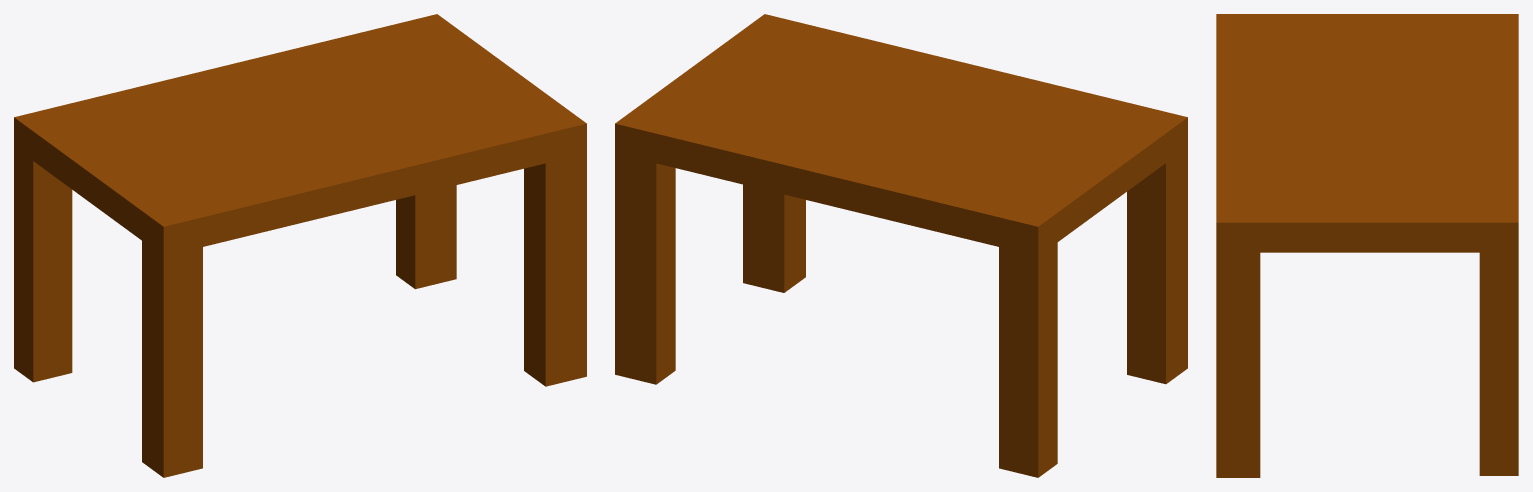
Rendered from table.fbx.
3 renders of one model, left to right at view 1: azimuth 30°, elevation 25°; view 2: azimuth 150°, elevation 25°; view 3: azimuth 270°, elevation 25°, orthographic.
Parts seen in each view (by area): view 1: table; view 2: table; view 3: table.
Part boxes in pixels (<box>): table: <box>14,14,586,477</box>; table: <box>615,14,1187,477</box>; table: <box>1216,14,1518,477</box>.
Bounding box in the file's own units: 180 × 103 × 110.
